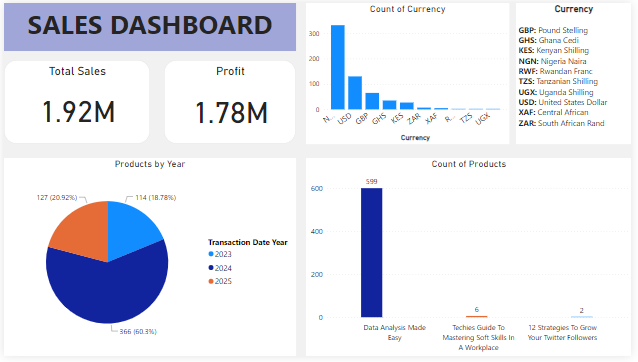

Layout of this report page (visuals, bound fields, positions):
{"tool":"powerbi","page":{"name":"Page 1","canvas":[1280,720],"ordinal":0},"visuals":[{"type":"textbox","box":[0,0,596.1,98],"z":0},{"type":"textbox","title":"Currency","box":[1044.2,0,236.5,288.5],"z":1000},{"type":"card","title":"Total Sales","fields":{"Values":["Sum(Sales Data csv.Total)"]},"box":[0,117.3,298.1,171.2],"z":2000},{"type":"card","title":"Profit","fields":{"Values":["Sum(Sales Data csv.Your Profit)"]},"box":[326.9,117.3,269.2,171.2],"z":3000},{"type":"clusteredColumnChart","title":"Count of Products ","fields":{"Category":["Sales Data csv.Products"],"Series":["Sales Data csv.Products"],"Y":["CountNonNull(Sales Data csv.Products)"]},"box":[615.4,315.4,665.4,403.8],"z":4000},{"type":"pieChart","title":"Products by Year","fields":{"Category":["Sales Data csv.Transaction Date.Variation.Date Hierarchy.Year"],"Y":["CountNonNull(Sales Data csv.Products)"]},"box":[0,315.4,596.2,403.8],"z":5000},{"type":"clusteredColumnChart","title":"Count of Currency","fields":{"Category":["Sales Data csv.Currency"],"Y":["CountNonNull(Sales Data csv.Currency)"]},"box":[615.4,0,415.4,288.5],"z":6000}]}

Visuals, with their boxes in screenshot pixels (x1, y1, x2, y2), scaled from the page's 1280x720 canvas onto the 638x362 screenshot:
textbox: [left=0, top=0, right=297, bottom=49]
"Currency" textbox: [left=520, top=0, right=637, bottom=145]
"Total Sales" card: [left=0, top=59, right=149, bottom=145]
"Profit" card: [left=163, top=59, right=297, bottom=145]
"Count of Products " clusteredColumnChart: [left=307, top=159, right=637, bottom=361]
"Products by Year" pieChart: [left=0, top=159, right=297, bottom=361]
"Count of Currency" clusteredColumnChart: [left=307, top=0, right=514, bottom=145]
